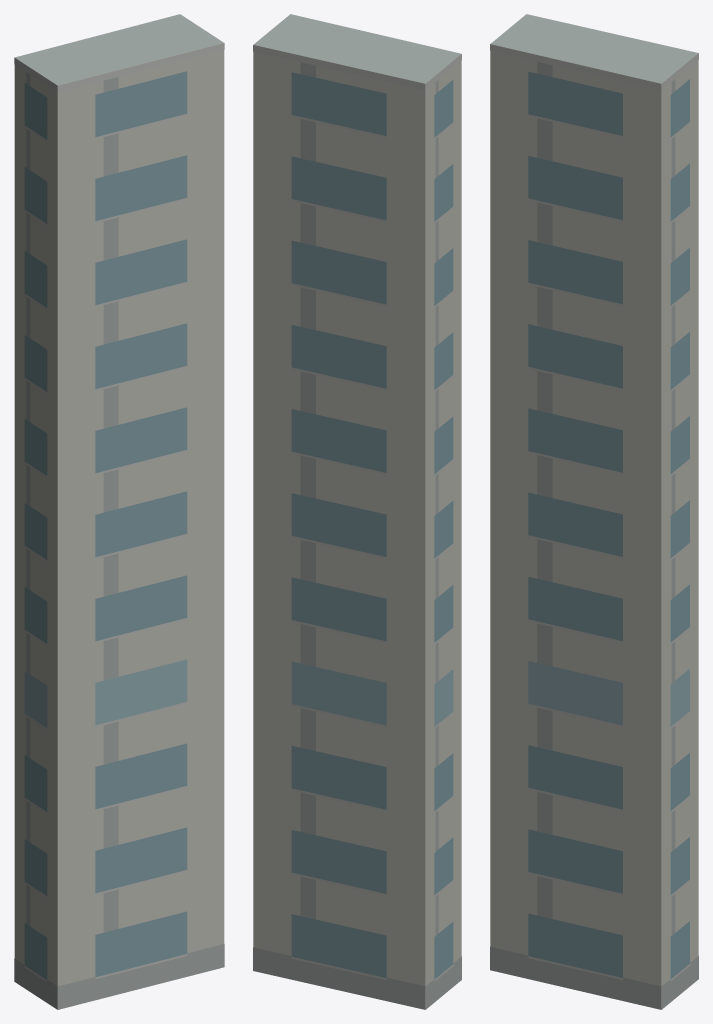
File: survey-upis-32802462.glb
3 renders of one model, left to right at view 1: azimuth 30°, elevation 25°; view 2: azimuth 150°, elevation 25°; view 3: azimuth 330°, elevation 25°, orthographic.
Visible parts, largest first — view 1: survey-upis-32802462.tmp; view 2: survey-upis-32802462.tmp; view 3: survey-upis-32802462.tmp.
Part boxes in pixels (x1=…): survey-upis-32802462.tmp: x1=14, y1=14, x2=224, y2=1009; survey-upis-32802462.tmp: x1=253, y1=14, x2=461, y2=1009; survey-upis-32802462.tmp: x1=490, y1=14, x2=698, y2=1009.
Bounding box in the file's own units: 6.56 × 33.55 × 2.83.
